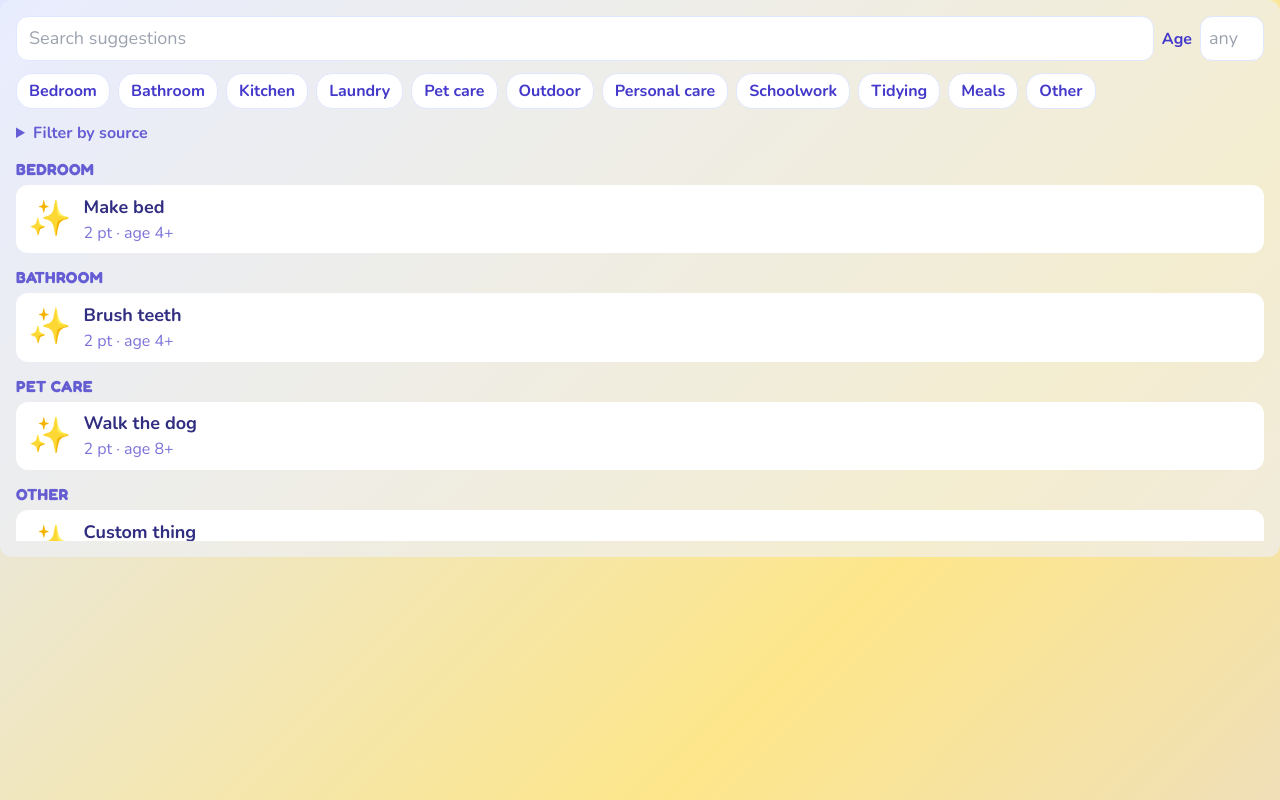
Scenario: BrowseSuggestionsPanel › clear-age button resets to "any" and re-includes higher ages
Type 4 into the age input — same path the previous test exercises.
Type "4" into the number field named "Filter by age" at (1232,38), box left=1200, top=16, right=1264, bottom=61
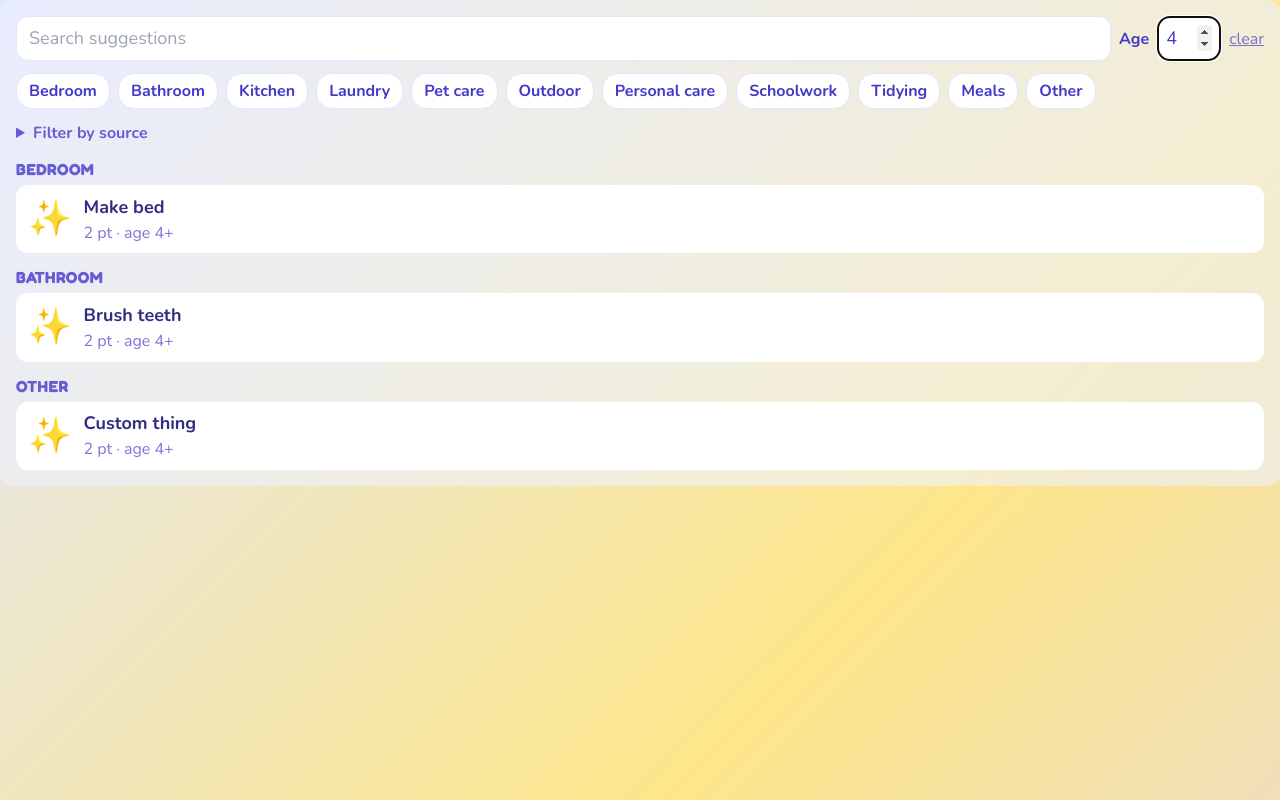
Expected: the button "Walk the dog" is gone
Click the button "clear" at (1247,38), box left=1229, top=26, right=1264, bottom=50
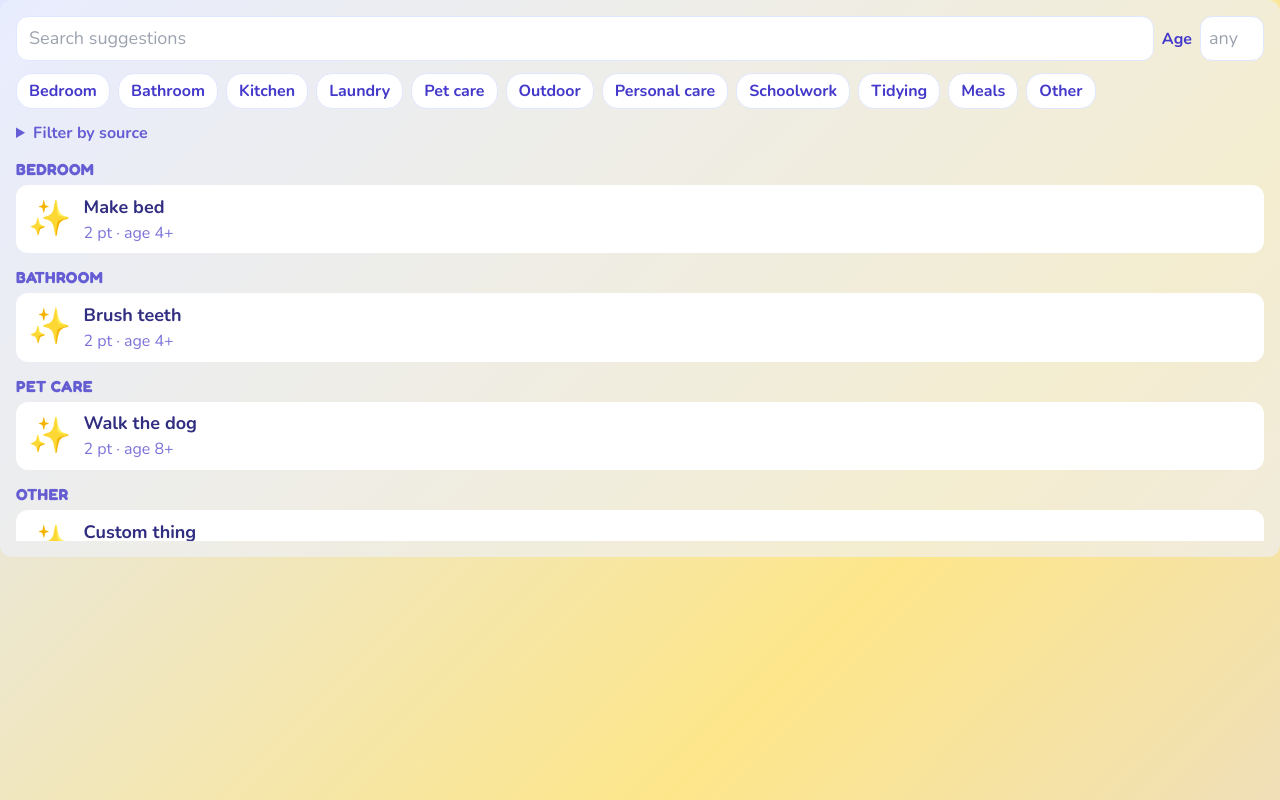
Expected: the text "Walk the dog" is shown, left=84, top=411, right=197, bottom=435
